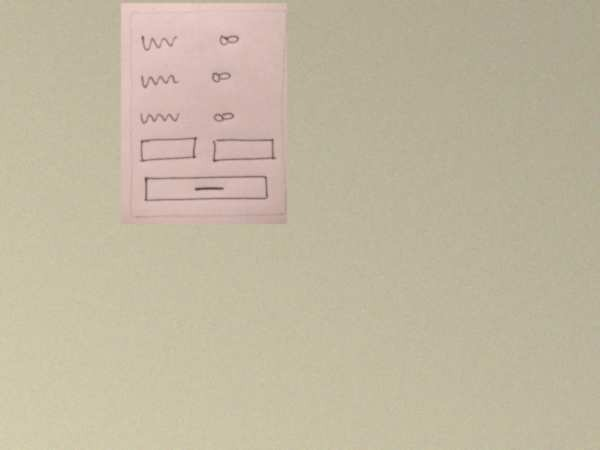button: (140, 174, 274, 202)
switch: (206, 105, 239, 126), (214, 30, 245, 50), (207, 67, 235, 86)
text: (138, 31, 180, 52), (137, 108, 183, 126), (138, 71, 181, 90)
text_input: (211, 136, 278, 166), (138, 135, 200, 167)
